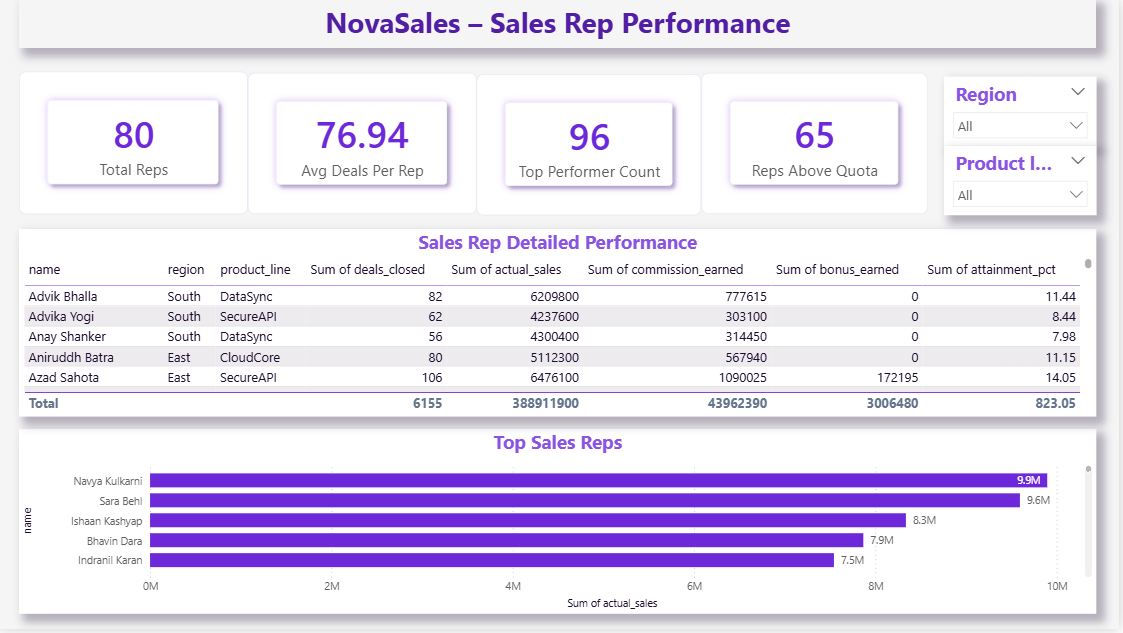

The page's visual inventory and layout, read from the dashboard file:
{"tool":"powerbi","page":{"name":"Sales Rep Performance","canvas":[1280,720],"ordinal":1},"visuals":[{"type":"textbox","box":[22.9,0,1231.4,55.7],"z":0},{"type":"cardVisual","fields":{"Data":["commission_data.Total Reps"]},"box":[22.9,82.9,261.4,162.9],"z":1},{"type":"cardVisual","fields":{"Data":["commission_data.Avg Deals Per Rep"]},"box":[284.3,84.3,261.4,161.4],"z":2},{"type":"cardVisual","fields":{"Data":["commission_data.Top Performer Count"]},"box":[545.7,85.7,257.1,161.4],"z":3},{"type":"cardVisual","fields":{"Data":["commission_data.Reps Above Quota"]},"box":[802.9,84.3,258.6,161.4],"z":4},{"type":"clusteredBarChart","title":"Top  Sales Reps","fields":{"Category":["commission_data.name"],"Y":["Sum(commission_data.actual_sales)"]},"box":[22.9,491.4,1231.4,211.4],"z":5},{"type":"tableEx","title":"Sales Rep Detailed Performance","fields":{"Values":["commission_data.name","commission_data.region","commission_data.product_line","Sum(commission_data.deals_closed)","Sum(commission_data.actual_sales)","Sum(commission_data.commission_earned)","Sum(commission_data.bonus_earned)","Sum(commission_data.attainment_pct)"]},"box":[22.9,262.9,1231.4,214.3],"z":6},{"type":"slicer","fields":{"Values":["commission_data.region"]},"box":[1080,88.6,174.3,78.6],"z":7},{"type":"slicer","fields":{"Values":["commission_data.product_line"]},"box":[1080,167.1,174.3,80],"z":8}]}

Visuals, with their boxes in screenshot pixels (x1, y1, x2, y2), scaled from the page's 1280x720 canvas onto the 1123x633 screenshot:
textbox: [left=20, top=0, right=1100, bottom=49]
cardVisual - commission_data.Total Reps: [left=20, top=73, right=249, bottom=216]
cardVisual - commission_data.Avg Deals Per Rep: [left=249, top=74, right=479, bottom=216]
cardVisual - commission_data.Top Performer Count: [left=479, top=75, right=704, bottom=217]
cardVisual - commission_data.Reps Above Quota: [left=704, top=74, right=931, bottom=216]
"Top  Sales Reps" clusteredBarChart: [left=20, top=432, right=1100, bottom=618]
"Sales Rep Detailed Performance" tableEx: [left=20, top=231, right=1100, bottom=420]
slicer - commission_data.region: [left=948, top=78, right=1100, bottom=147]
slicer - commission_data.product_line: [left=948, top=147, right=1100, bottom=217]
